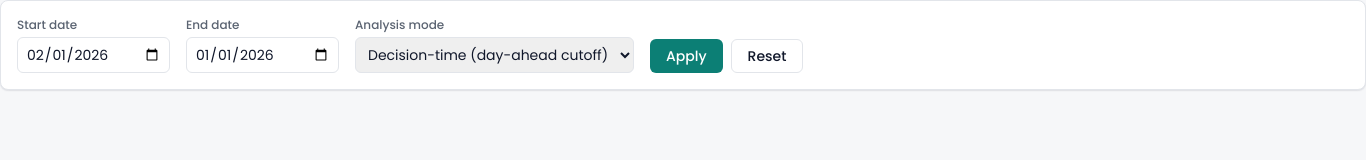
AnalysisFilters › rejects an end date that is not after the start date
Click the button "Apply" at (686, 56), box [650,39,723,73]
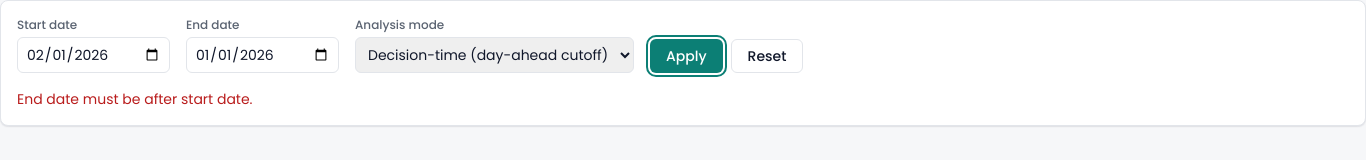
expect the message reads "End date must be after start date.": met, box [17,89,253,109]
